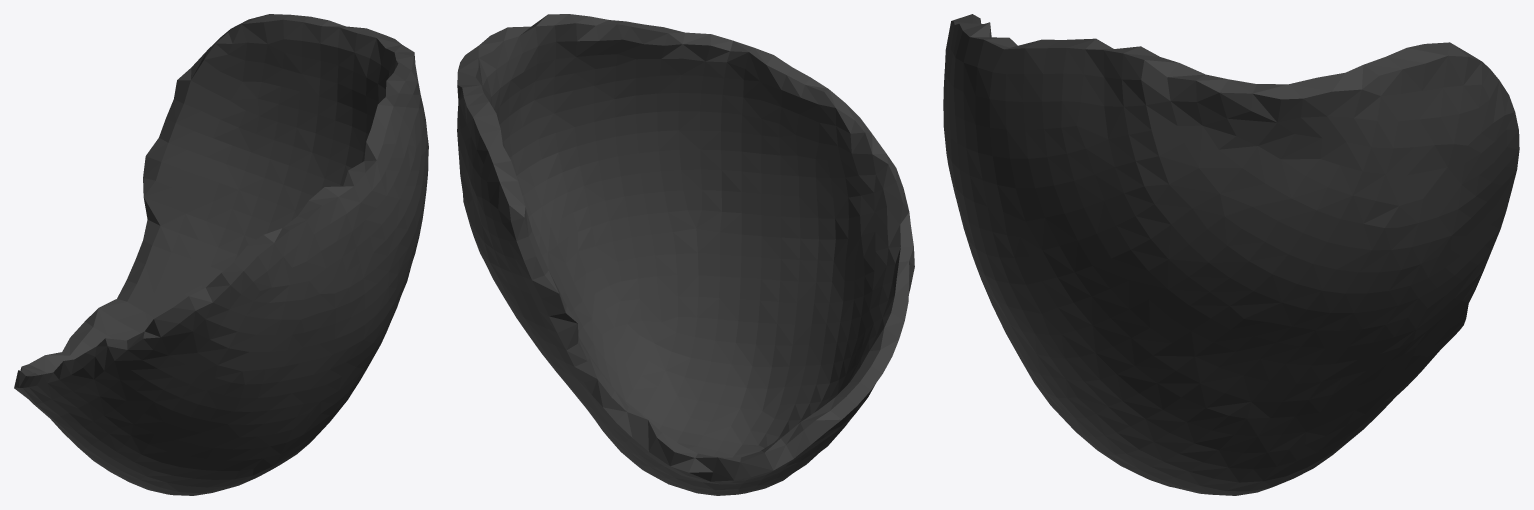
The model's file is VENTRICLE_L.glb.
3 renders of one model, left to right at view 1: azimuth 30°, elevation 25°; view 2: azimuth 150°, elevation 25°; view 3: azimuth 270°, elevation 25°, orthographic. The views are drawn at different scales.
Visible parts, largest first — view 1: VENTRICLE_L; view 2: VENTRICLE_L; view 3: VENTRICLE_L.
Part boxes in pixels (left/top/right/bottom): VENTRICLE_L: left=14, top=14, right=428, bottom=495; VENTRICLE_L: left=457, top=14, right=914, bottom=495; VENTRICLE_L: left=943, top=14, right=1519, bottom=495.
Size of the model in its own units: 66.1 by 63.43 by 60.92.
1 material, 1 textured.
